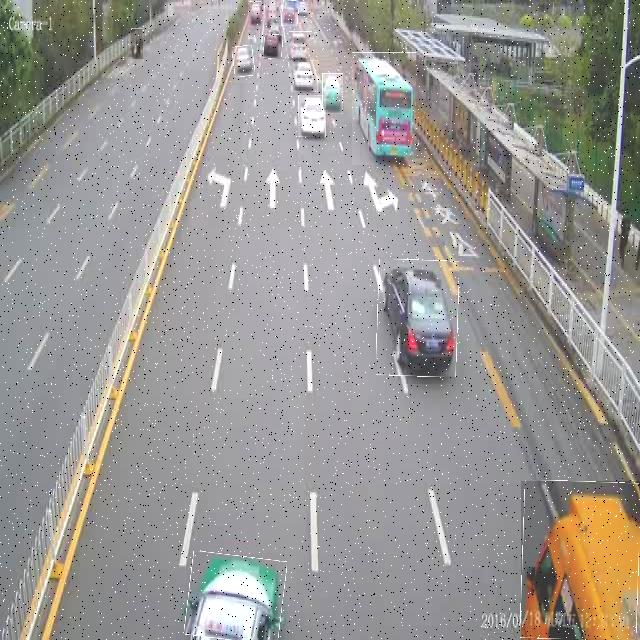Bus: (521, 481, 640, 640), (352, 52, 416, 165)
Car: (377, 260, 459, 376), (186, 553, 285, 640), (298, 95, 326, 137), (322, 73, 343, 114), (294, 60, 320, 92), (290, 31, 314, 60), (234, 46, 254, 77), (281, 0, 298, 26), (264, 35, 282, 59), (249, 1, 261, 30)
Motorcycle: (131, 28, 143, 59)
